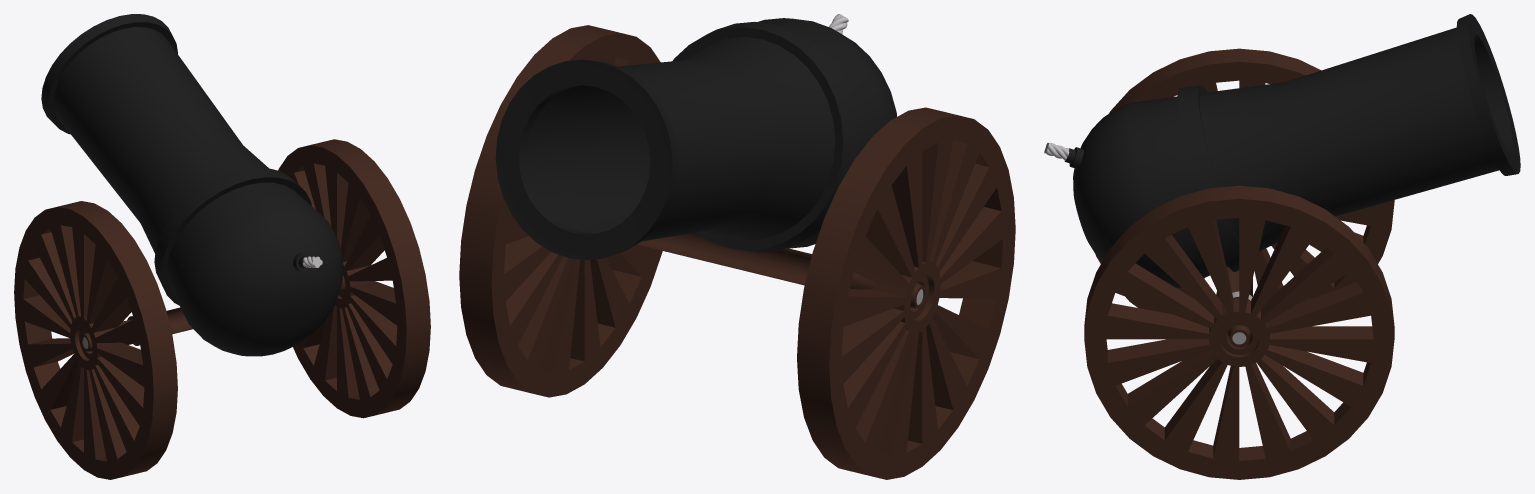
The model's file is Cannon.fbx.
3 renders of one model, left to right at view 1: azimuth 30°, elevation 25°; view 2: azimuth 150°, elevation 25°; view 3: azimuth 270°, elevation 25°, orthographic. The views are drawn at different scales.
Visible parts, largest first — view 1: Cylinder, Cylinder.001; view 2: Cylinder, Cylinder.001; view 3: Cylinder, Cylinder.001.
Boxes of the visible parts, left/top/right/bottom form: Cylinder: left=14, top=139, right=430, bottom=479; Cylinder.001: left=41, top=14, right=343, bottom=356; Cylinder: left=459, top=25, right=1015, bottom=479; Cylinder.001: left=495, top=18, right=896, bottom=260; Cylinder: left=1084, top=48, right=1394, bottom=479; Cylinder.001: left=1073, top=14, right=1520, bottom=288.
Bounding box in the file's own units: 105 × 125 × 141.
